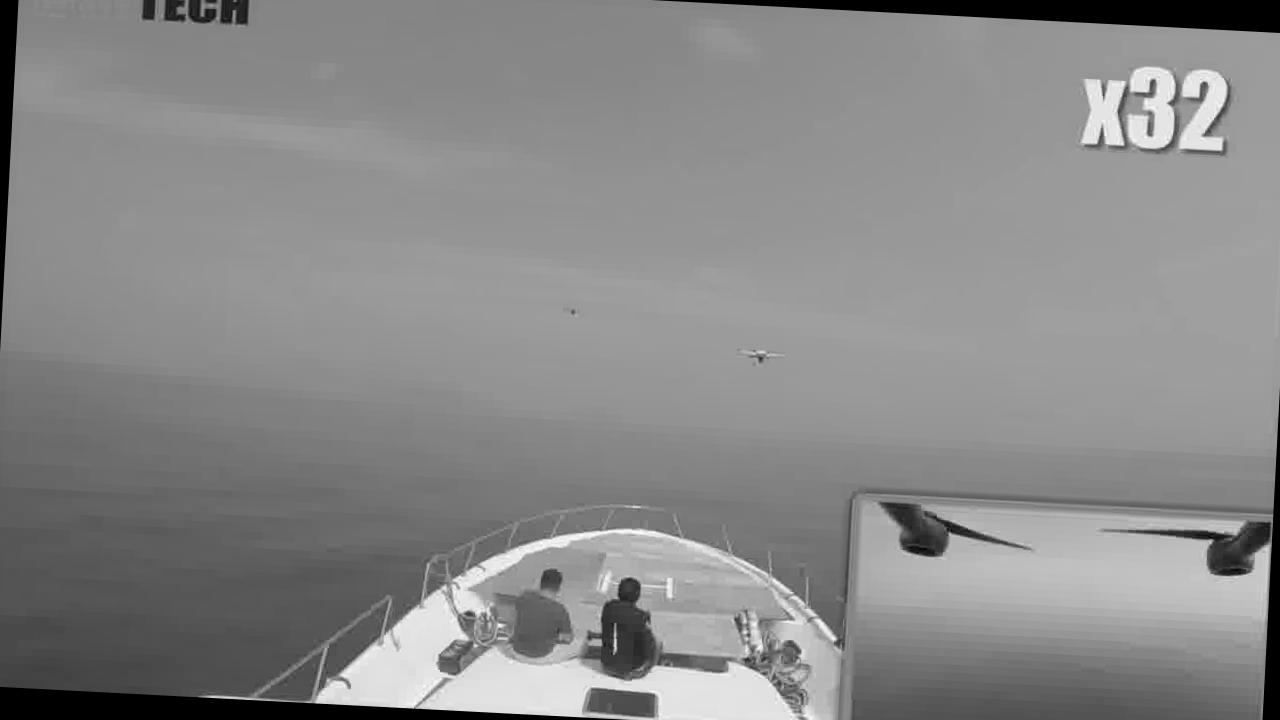drone: (734, 334, 786, 380), (556, 293, 586, 329)
